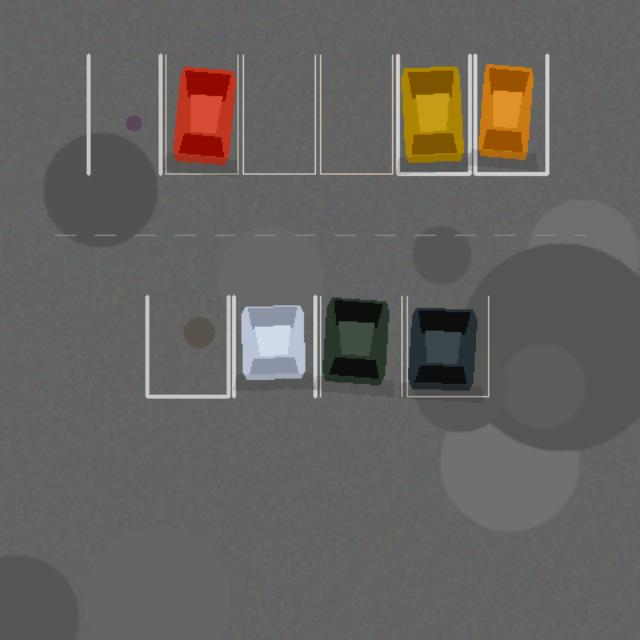space-empty: (88, 55, 160, 173), (243, 55, 315, 173), (320, 55, 392, 173), (147, 296, 228, 396)
space-occupied: (165, 55, 237, 173), (397, 55, 469, 173), (475, 55, 547, 173), (233, 296, 315, 396), (320, 296, 401, 396), (407, 296, 488, 396)
